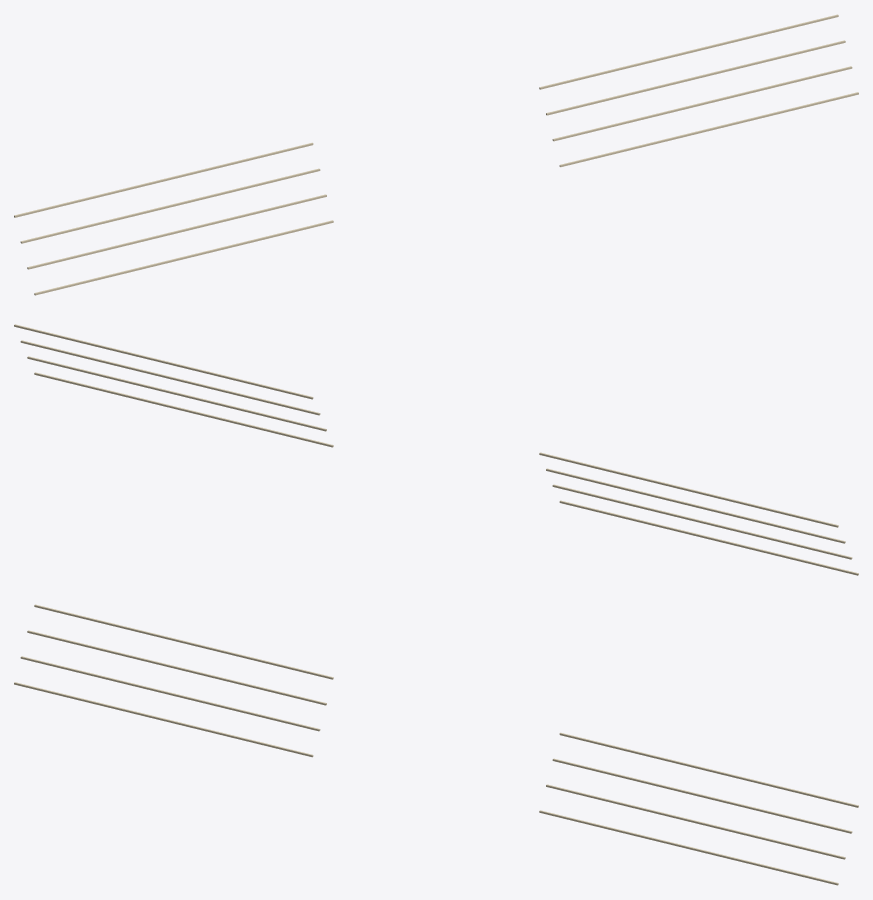
File: FarStands_Trim.fbx
3 views of the same model, one above another, from view 1: azimuth 30°, elevation 25°; view 2: azimuth 150°, elevation 25°; view 3: azimuth 330°, elevation 25° (orthographic).
Visible parts, largest first — view 1: FarTierLip-1_0.001; view 2: FarTierLip-1_0.001; view 3: FarTierLip-1_0.001.
Boxes of the visible parts, <box> form: FarTierLip-1_0.001: <box>14,14,858,295</box>; FarTierLip-1_0.001: <box>14,324,858,575</box>; FarTierLip-1_0.001: <box>14,604,858,885</box>.
Size of the model in its own units: 24700 by 1850 by 1100.
